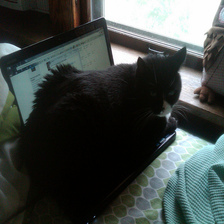laptop: (1, 14, 209, 222)
